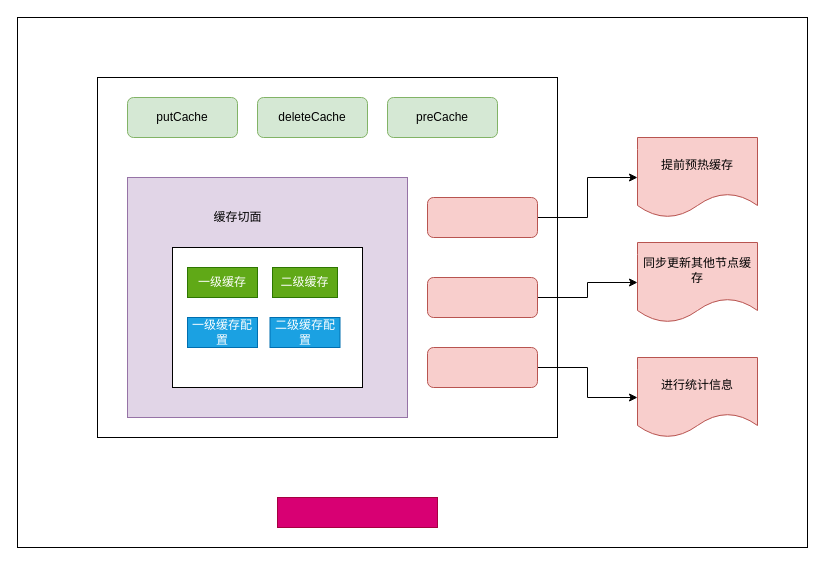
Image size: 825x565. Some labels were removed from this diagram. Each missing label, with the centre of its shape:
"命中率统计" belongs at pixel 482 367.
"封装为一个Spring-starter" belongs at pixel 357 512.
"消息订阅" belongs at pixel 482 297.
"缓存预热" belongs at pixel 482 217.
